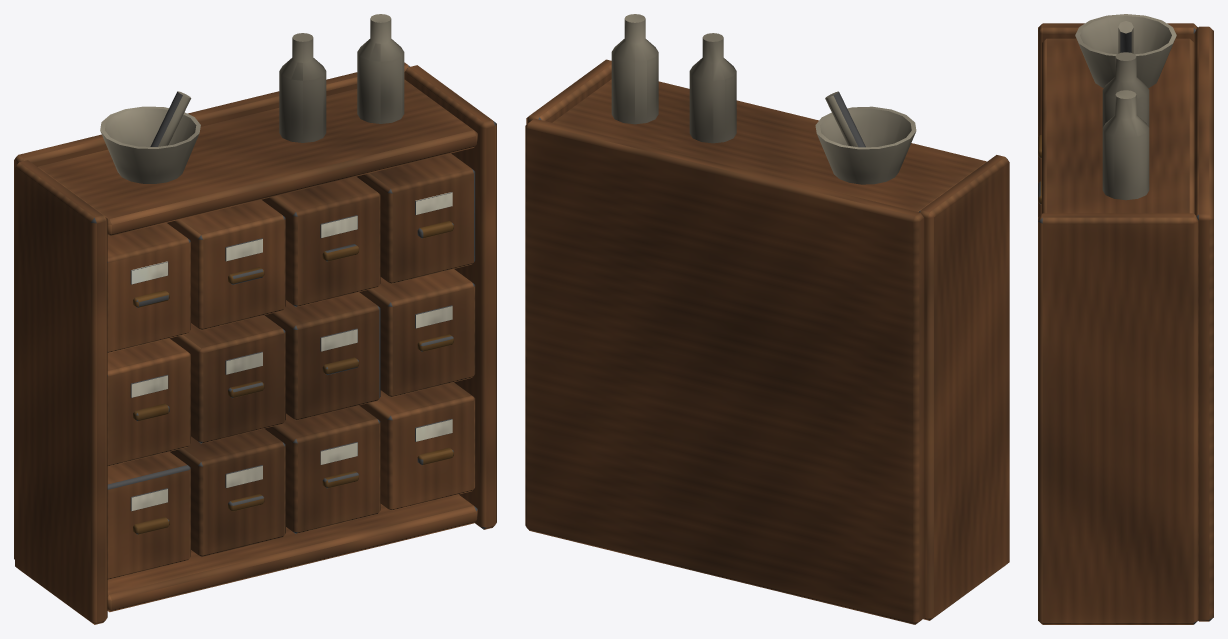
Rendered from Furn_Med_HerbChest.fbx.
The picture shows the model from 3 angles, left to right: view 1: azimuth 30°, elevation 25°; view 2: azimuth 150°, elevation 25°; view 3: azimuth 270°, elevation 25°; orthographic projection.
Visible parts, largest first — view 1: Furn_Med_HerbChest; view 2: Furn_Med_HerbChest; view 3: Furn_Med_HerbChest.
Boxes of the visible parts, x1,y1,x2,y2 form: Furn_Med_HerbChest: [14, 14, 496, 624]; Furn_Med_HerbChest: [525, 14, 1009, 624]; Furn_Med_HerbChest: [1038, 14, 1213, 624].
Size of the model in its own units: 1.2 by 1.4 by 0.45.
4 materials, 4 textured.
